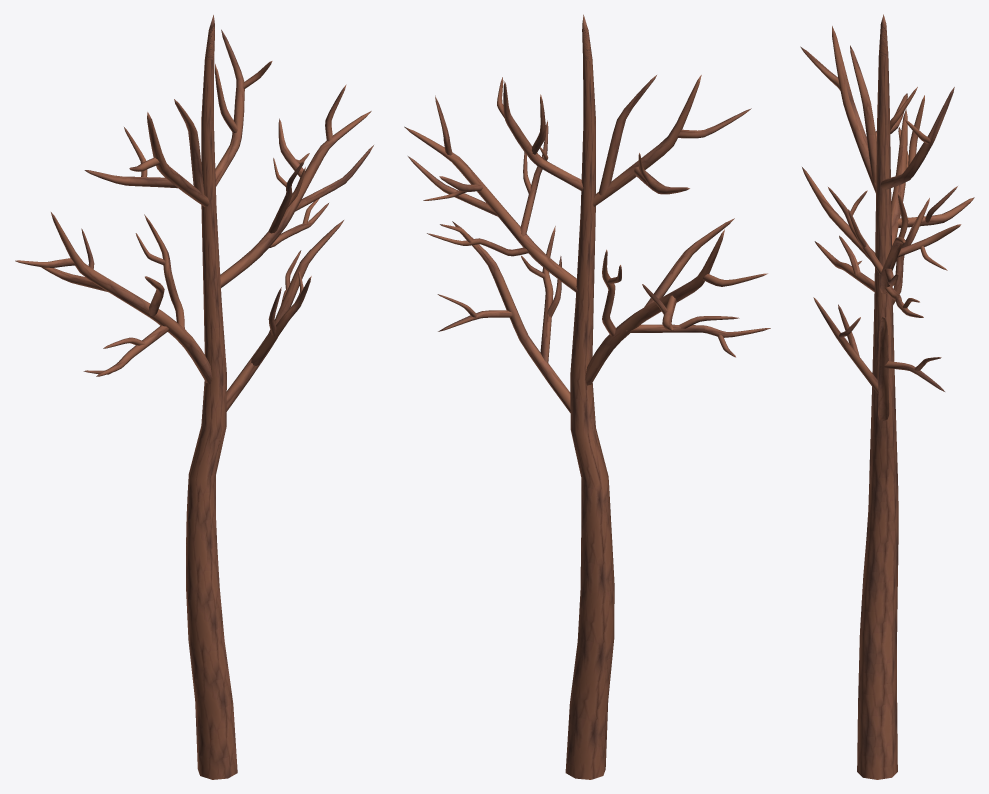
The model's file is DeadTree_1.glb.
The picture shows the model from 3 angles, left to right: view 1: azimuth 30°, elevation 25°; view 2: azimuth 150°, elevation 25°; view 3: azimuth 270°, elevation 25°; orthographic projection.
Visible parts, largest first — view 1: DeadTree_1; view 2: DeadTree_1; view 3: DeadTree_1.
Part boxes in pixels (x1,y1,x2,y2): DeadTree_1: [15, 15, 373, 779]; DeadTree_1: [404, 14, 770, 779]; DeadTree_1: [800, 14, 974, 779].
Bounding box in the file's own units: 3.09 × 6.2 × 1.3.
Materials: 1 (1 with a texture image).
